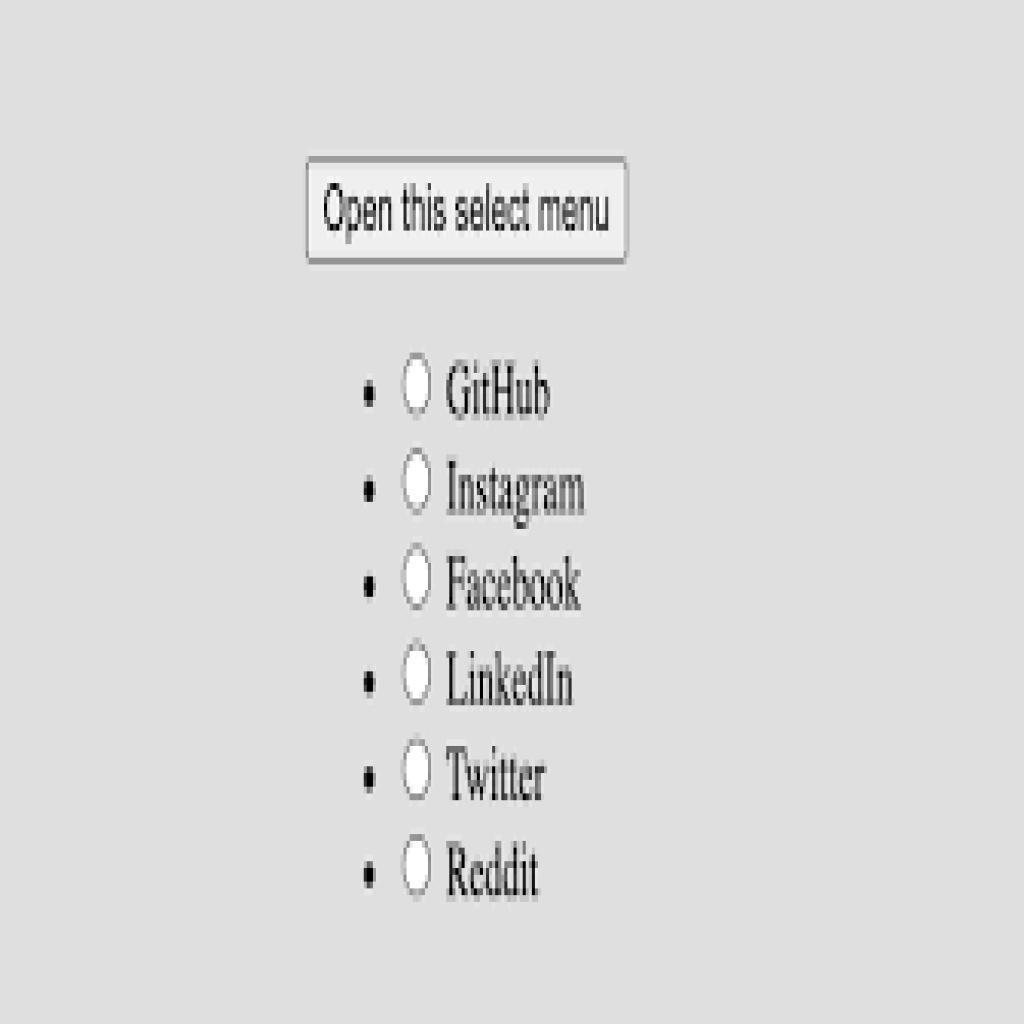radio: (400, 345, 439, 424), (398, 445, 438, 517), (402, 541, 436, 615), (401, 733, 433, 810), (398, 638, 433, 706), (400, 836, 434, 905)
